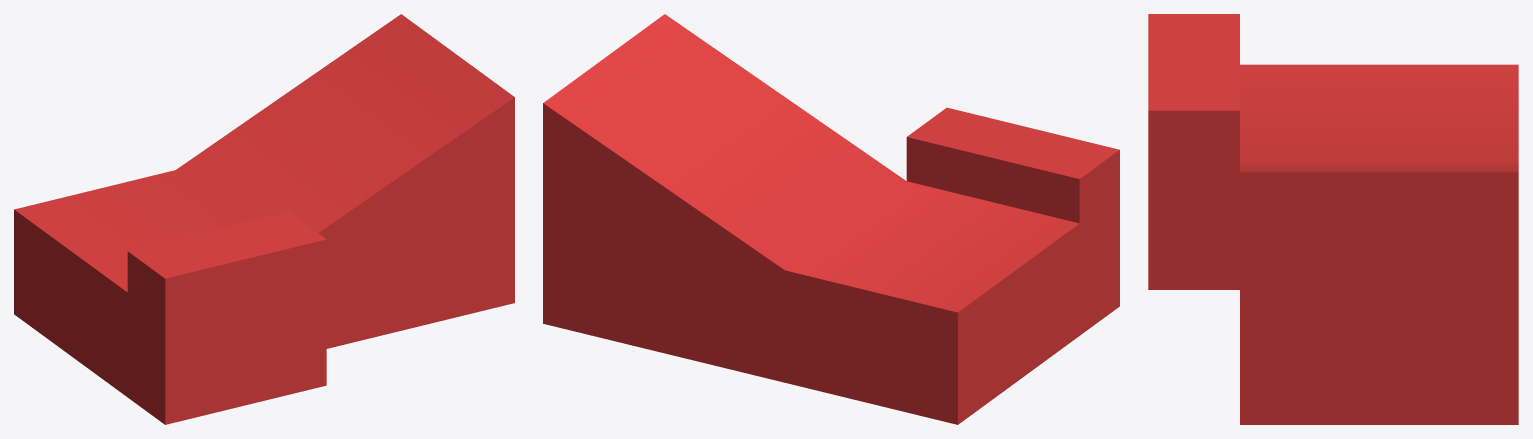
3 renders of one model, left to right at view 1: azimuth 30°, elevation 25°; view 2: azimuth 150°, elevation 25°; view 3: azimuth 270°, elevation 25°, orthographic. The views are drawn at different scales.
Visible parts, largest first — view 1: Cube; view 2: Cube; view 3: Cube.
Boxes of the visible parts, x1,y1,x2,y2 form: Cube: (14,14,514,424); Cube: (543,14,1119,424); Cube: (1148,14,1518,424).
Bounding box in the file's own units: 3.93 × 2 × 2.66.
